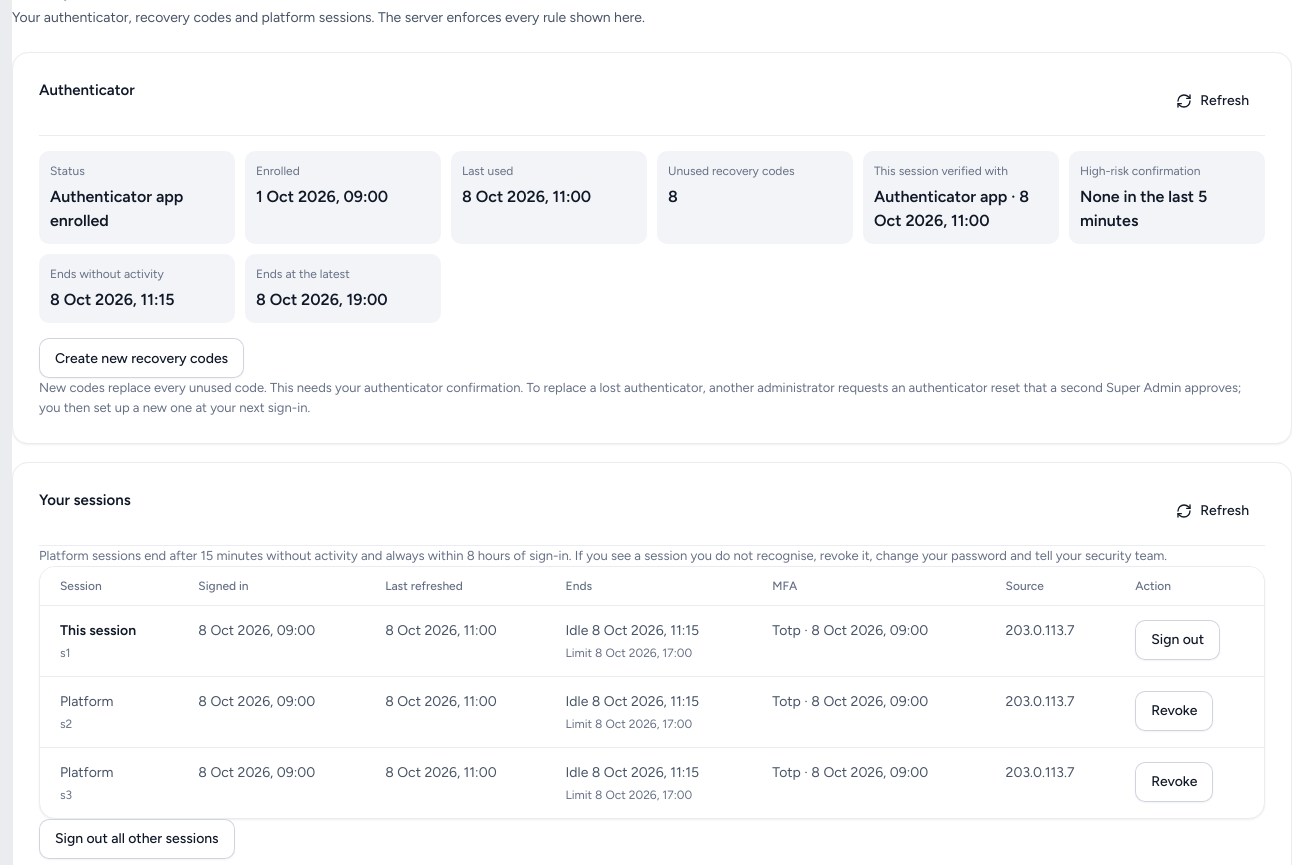
platform administrator security page › signs out every other session and reports a partial failure honestly
(page scrolled)
What coordinates should you click on to do the following:
click the button "Sign out all other sessions"
I would click on:
 (137, 838)
Its box is [39,818,235,858].
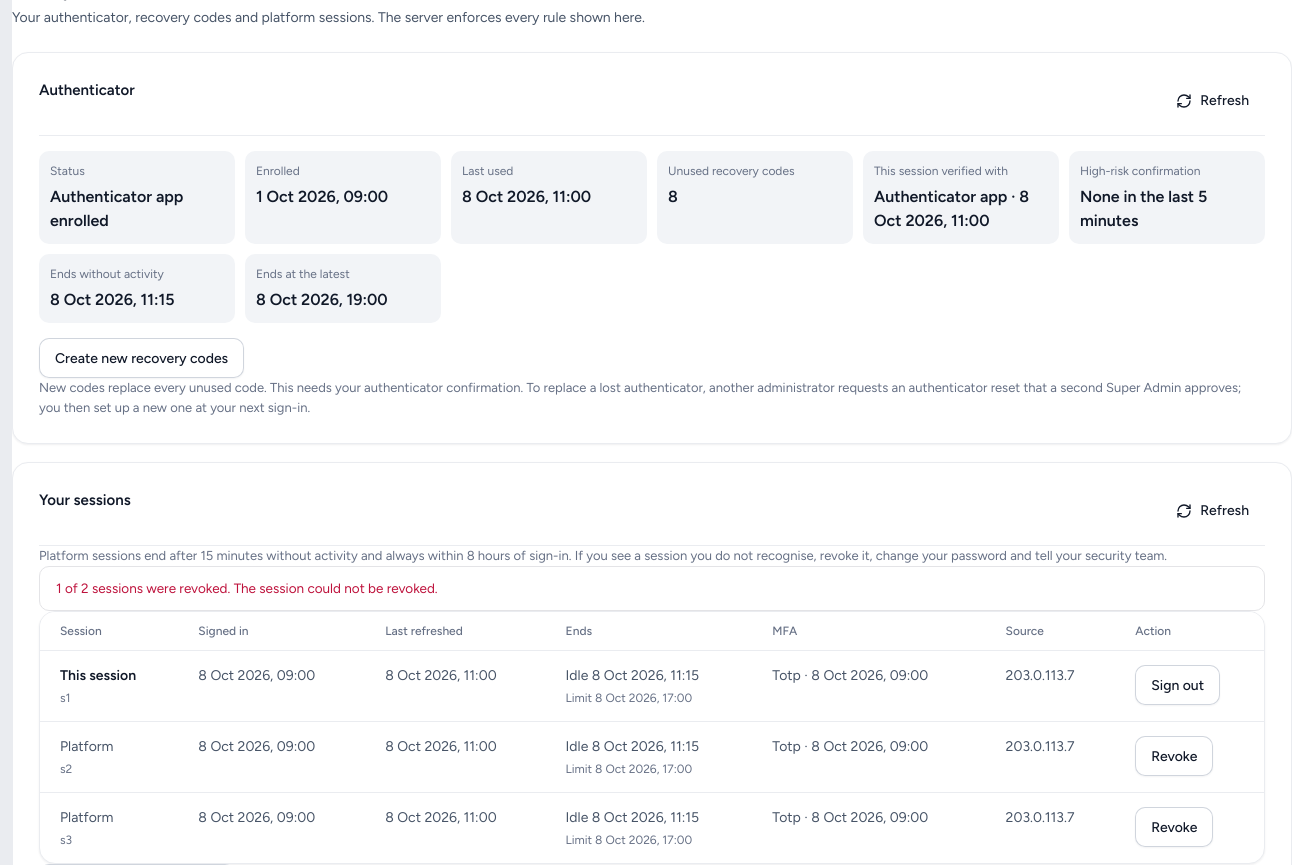
Check: the text "1 of 2 sessions were revoked. The session could not be revoked." is shown, box [39,566,1265,611]
